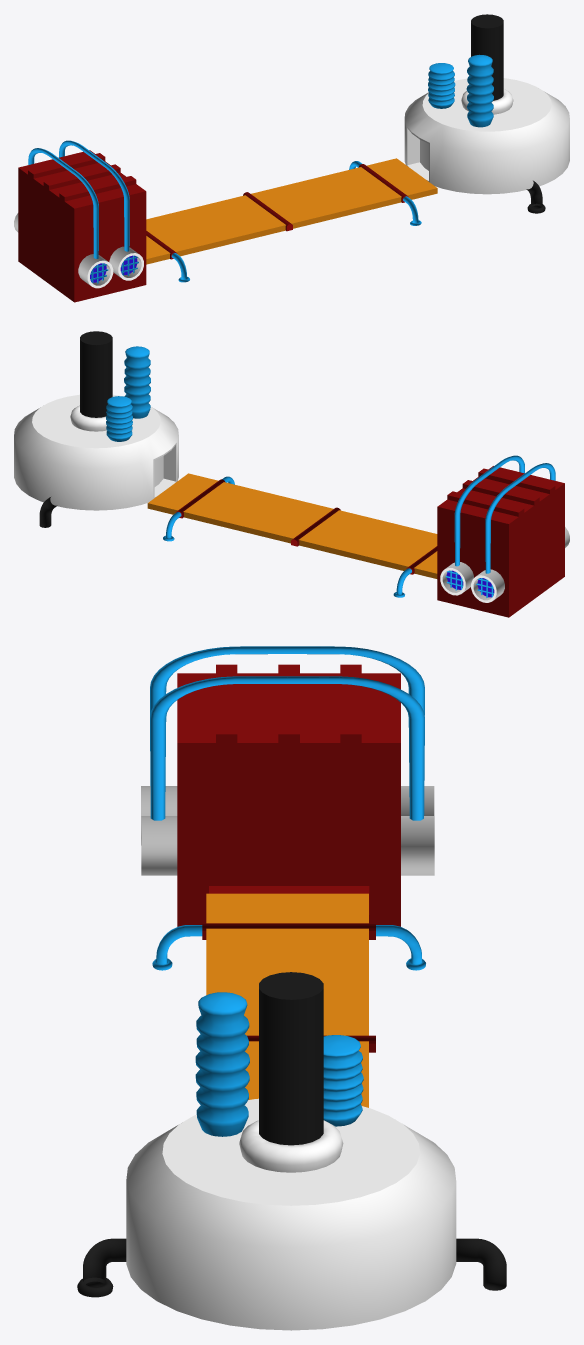
The model's file is FabricaParaJuego.FBX.
The picture shows the model from 3 angles, top to bottom: view 1: azimuth 30°, elevation 25°; view 2: azimuth 150°, elevation 25°; view 3: azimuth 270°, elevation 25°; orthographic projection. The views are drawn at different scales.
Visible parts, largest first — view 1: Cylinder022, Box008, banda001, Cylinder023, Cylinder027, Cylinder024, Line057, Line058, Cylinder033, Cylinder034, Torus013; view 2: Cylinder022, Box008, banda001, Cylinder023, Cylinder027, Cylinder024, Line057, Line058, Cylinder030, Cylinder029, Torus013; view 3: Cylinder022, Box008, banda001, Cylinder023, Cylinder027, Line057, Cylinder024, Line058, Torus013, Cylinder034, Cylinder029, Line086 (+3 smaller).
Part boxes in pixels (box(x1,y1,x2,y2)): Cylinder022: box(404, 78, 569, 194); Box008: box(18, 150, 146, 302); banda001: box(146, 158, 437, 264); Cylinder023: box(471, 14, 503, 100); Cylinder027: box(466, 54, 493, 127); Cylinder024: box(428, 63, 455, 108); Line057: box(59, 140, 129, 251); Line058: box(28, 148, 98, 258); Cylinder033: box(78, 254, 113, 288); Cylinder034: box(109, 246, 143, 280); Torus013: box(461, 89, 513, 114); Cylinder022: box(14, 394, 178, 510); Box008: box(437, 466, 564, 617); banda001: box(147, 473, 437, 578); Cylinder023: box(80, 331, 112, 417); Cylinder027: box(124, 346, 150, 418); Cylinder024: box(106, 396, 132, 441); Line057: box(454, 455, 524, 566); Line058: box(485, 463, 555, 573); Cylinder030: box(471, 569, 504, 602); Cylinder029: box(440, 562, 473, 595); Torus013: box(70, 405, 106, 431); Cylinder022: box(126, 1098, 456, 1330); Box008: box(177, 664, 400, 926); banda001: box(206, 893, 368, 1107); Cylinder023: box(259, 972, 323, 1145); Cylinder027: box(195, 992, 249, 1136); Line057: box(150, 676, 424, 820); Cylinder024: box(323, 1035, 363, 1126); Line058: box(150, 646, 424, 715); Torus013: box(239, 1120, 343, 1172); Cylinder034: box(141, 816, 177, 875); Cylinder029: box(401, 816, 434, 875); Line086: box(152, 925, 425, 970).
Size of the model in its own units: 858 by 245 by 312.
